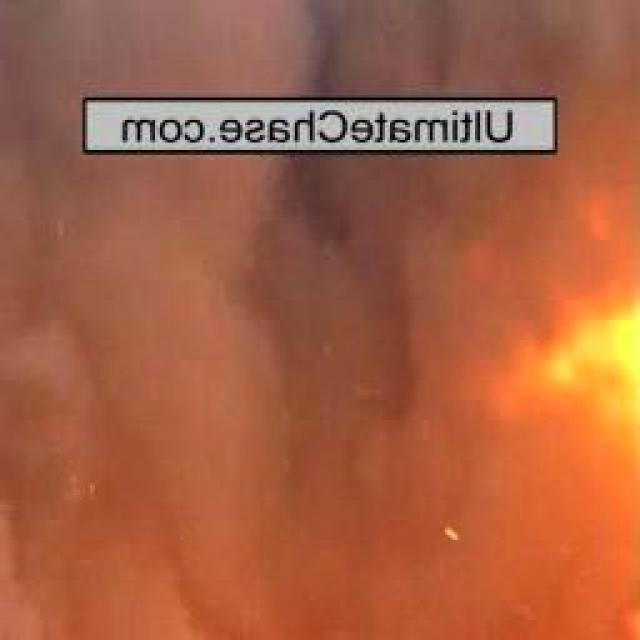Fire: (408, 158, 640, 491)
